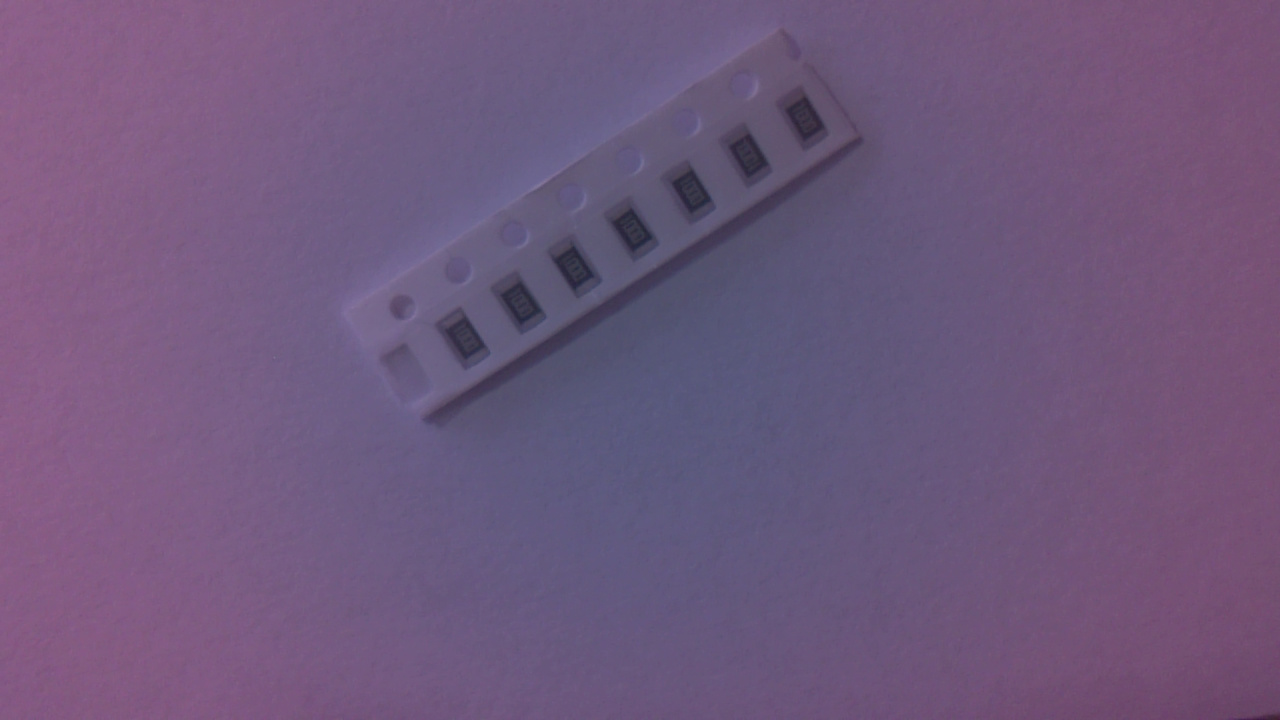Resistor: (495, 274, 554, 339), (553, 239, 609, 306), (439, 309, 496, 374), (665, 164, 721, 230), (723, 126, 778, 193), (610, 204, 667, 268), (780, 93, 837, 156)
